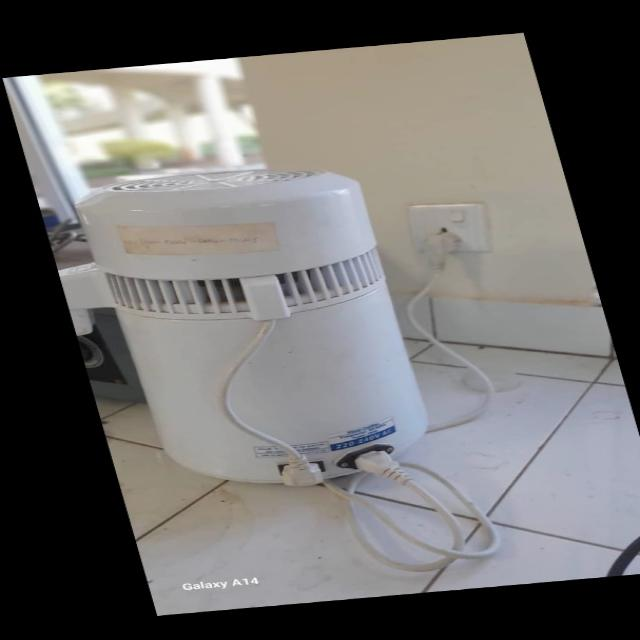Distilled Water Maker: (61, 155, 467, 505)
